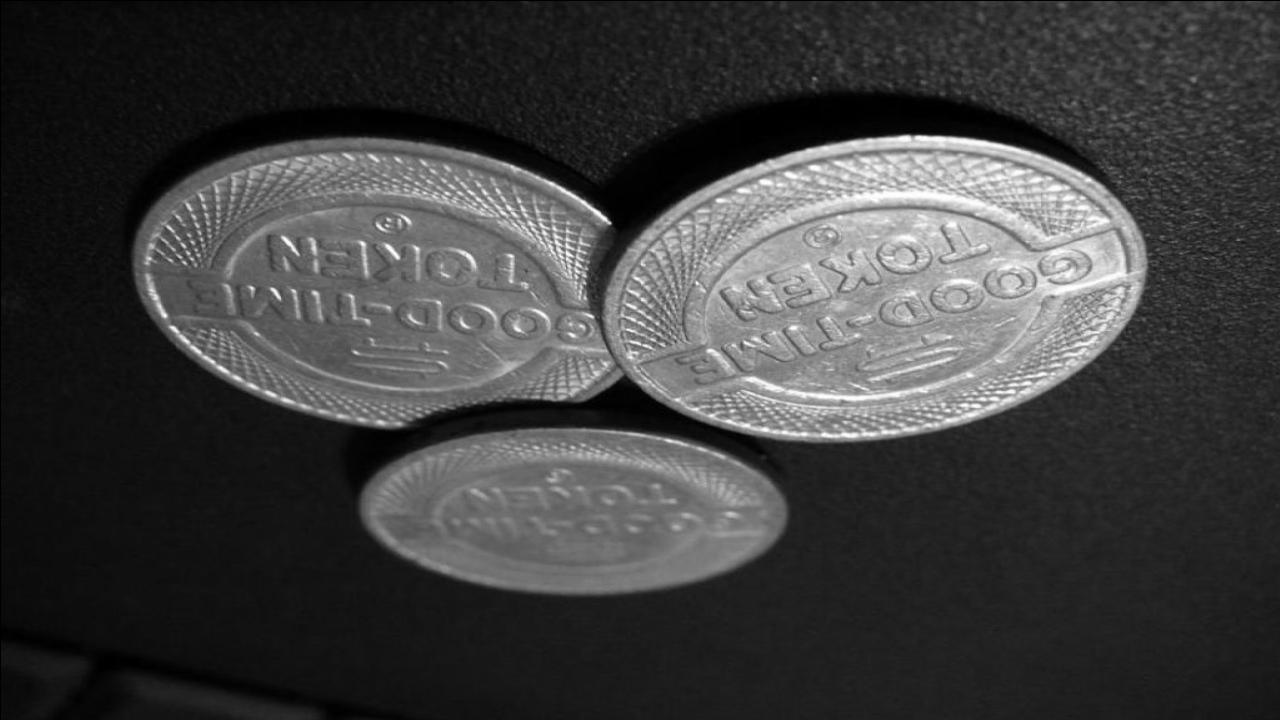coin: (596, 132, 1152, 442), (130, 132, 630, 428), (354, 407, 788, 597)
